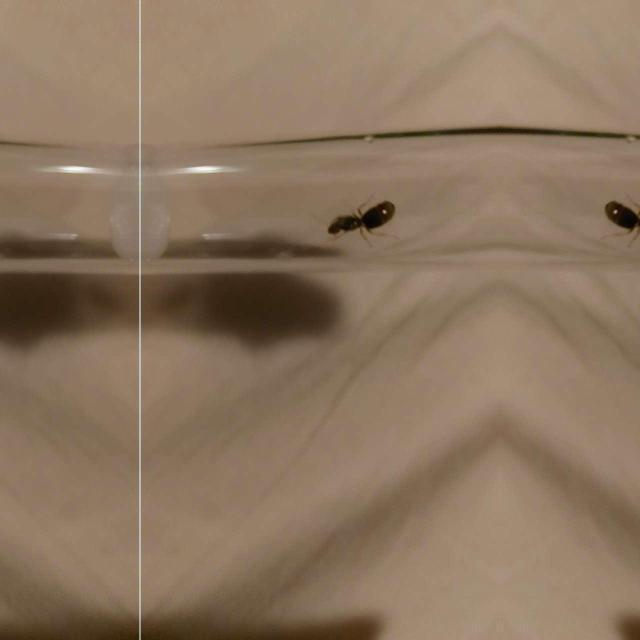Lasius: (322, 184, 398, 246), (602, 183, 640, 244)
